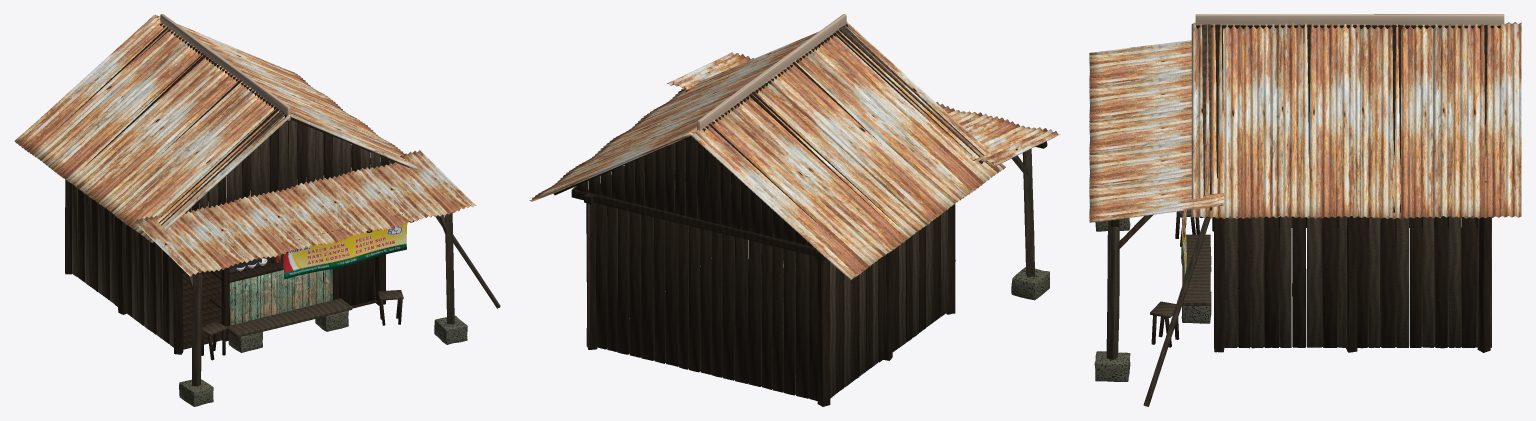
The model's file is traditional_indonesian_warung__food_stall.glb.
The picture shows the model from 3 angles, left to right: view 1: azimuth 30°, elevation 25°; view 2: azimuth 150°, elevation 25°; view 3: azimuth 270°, elevation 25°; orthographic projection. The views are drawn at different scales.
Parts seen in each view (by area): view 1: Warung_Traditional_Building; view 2: Warung_Traditional_Building; view 3: Warung_Traditional_Building.
Part boxes in pixels (box(x1,y1,x2,y2)): Warung_Traditional_Building: box(14, 14, 500, 406); Warung_Traditional_Building: box(529, 14, 1059, 406); Warung_Traditional_Building: box(1089, 14, 1521, 406).
Bounding box in the file's own units: 5.57 × 3.77 × 5.16.
11 materials, 6 textured.
